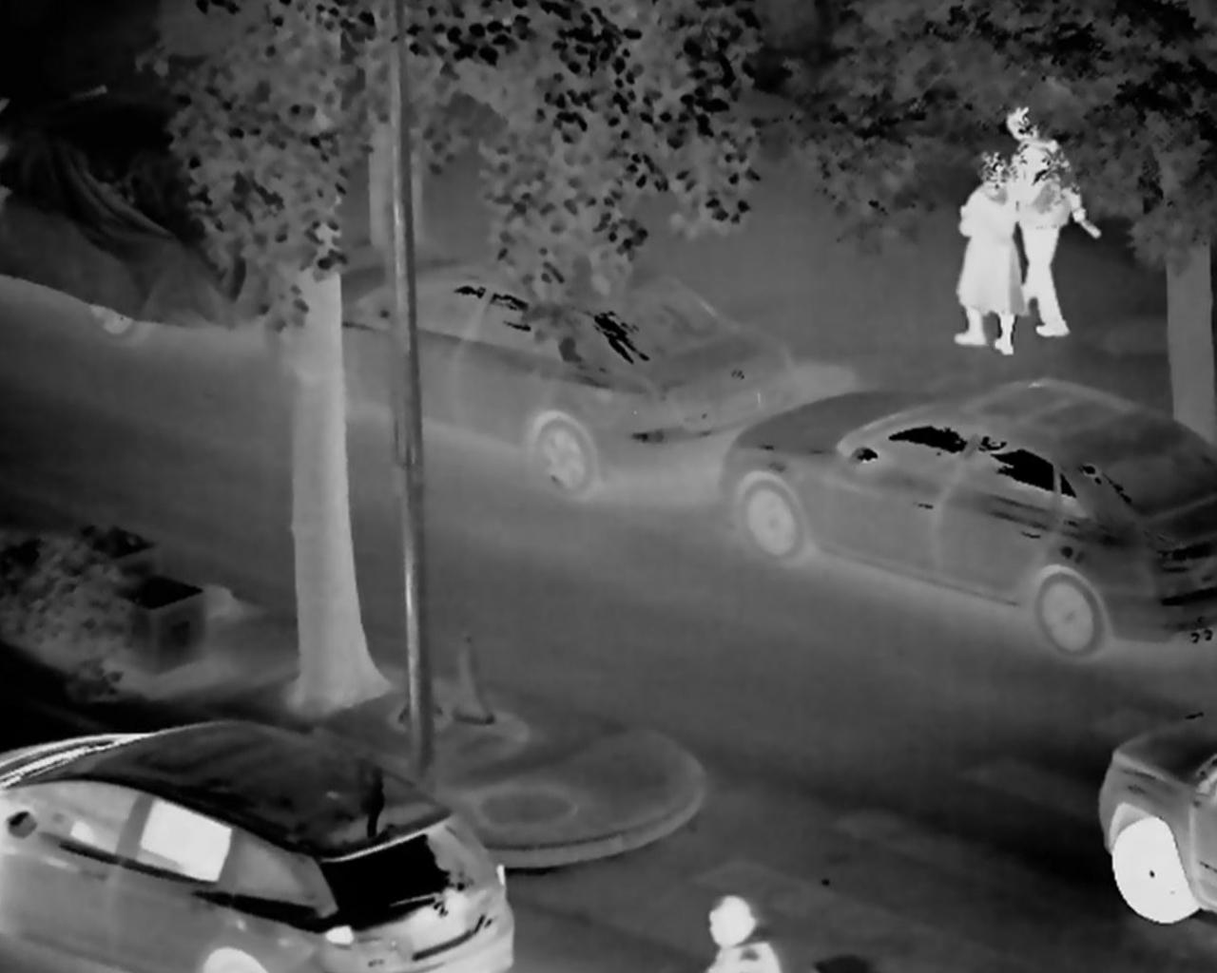person: (1001, 100, 1094, 345), (953, 143, 1031, 365), (699, 894, 799, 973)
